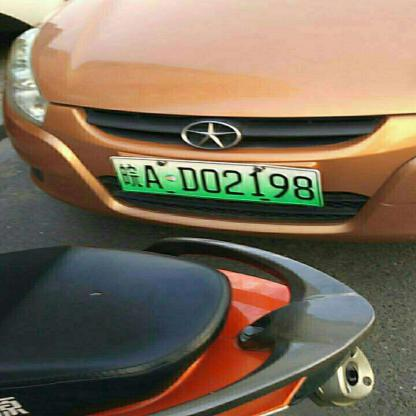lp: (111, 153, 319, 207)
